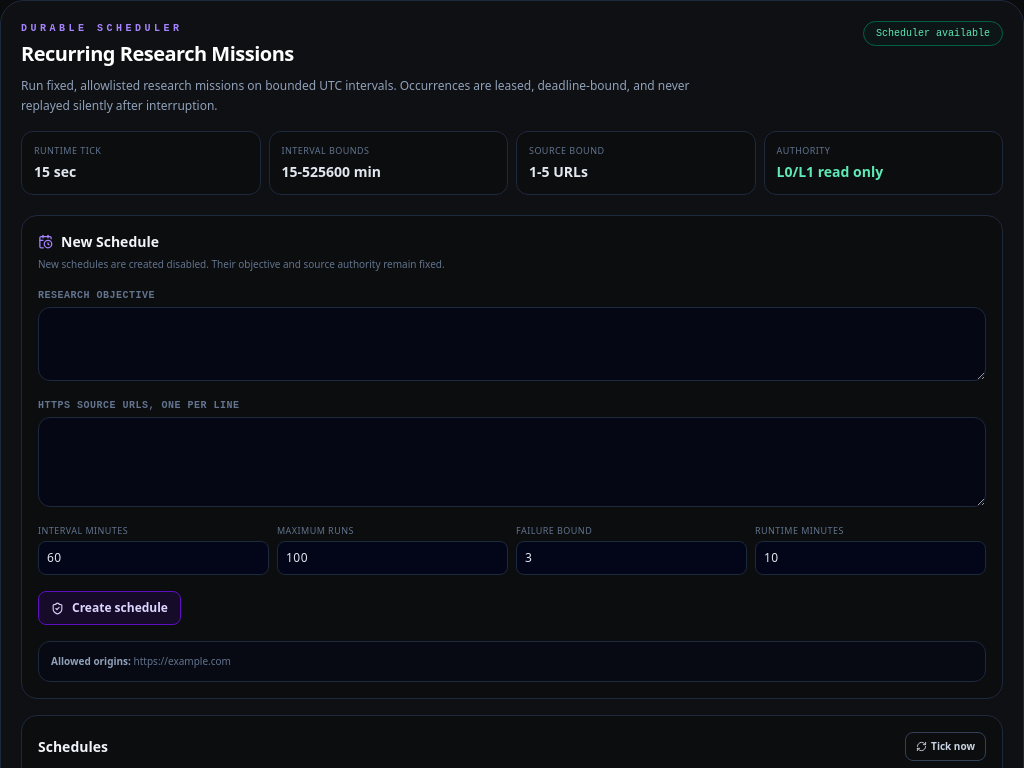
Test case: RecurringResearchPanel › creates a disabled schedule with the exact authenticated contract and does not tick it
The image size is (1024, 768).
Type "Track evidence changes" into the text box named "Scheduled research objective" at (512, 344), box [38, 307, 986, 381]
Type "https://example.com/source" into the text box named "Scheduled HTTPS source URLs, one per line" at (512, 462), box [38, 417, 986, 507]
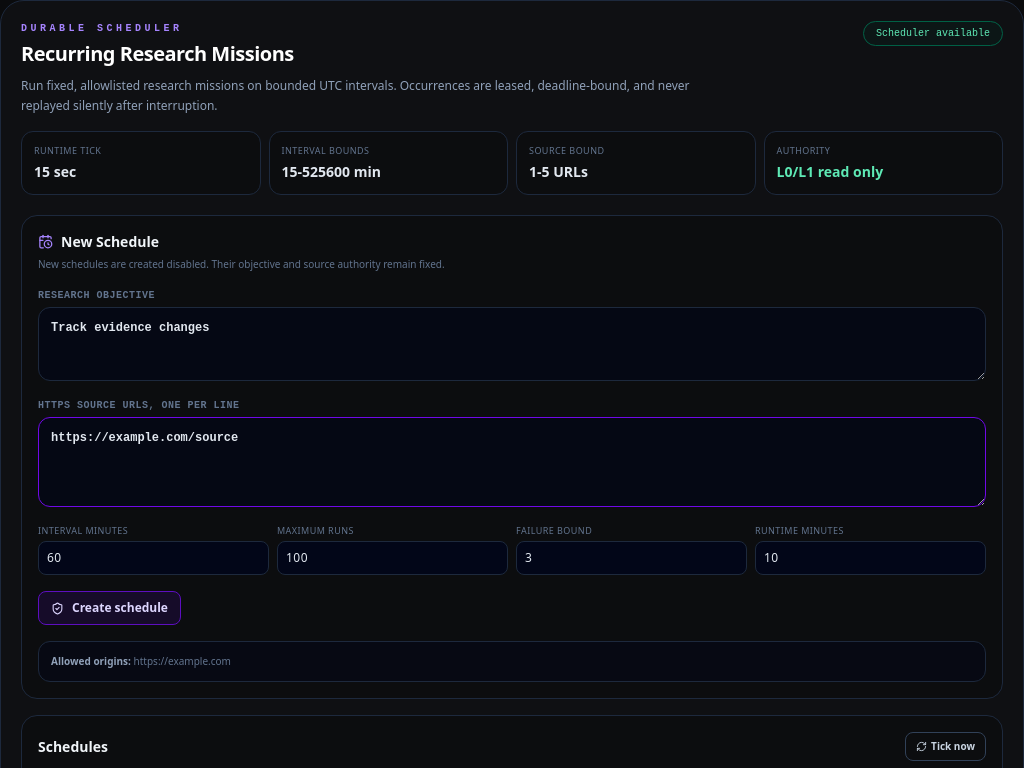
Replace the text in the number field labelled "Interval minutes" with "30" at (154, 558), box [38, 541, 269, 575]
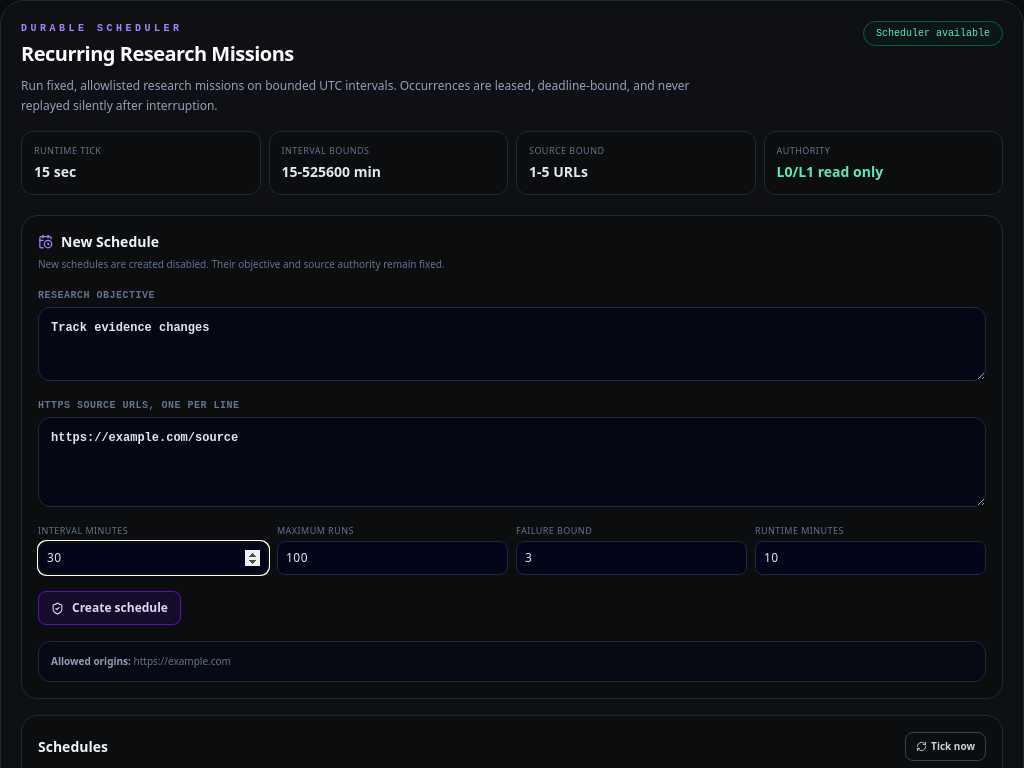
Replace the text in the number field labelled "Maximum runs" with "12" at (392, 558), box [277, 541, 508, 575]
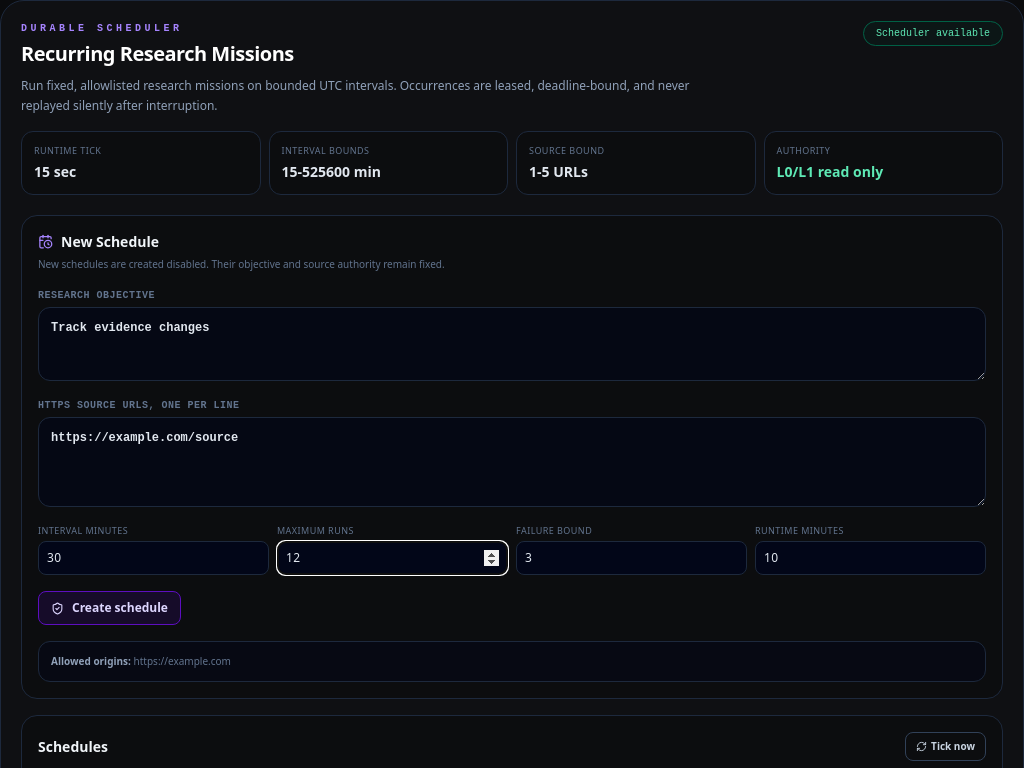
Replace the text in the number field named "Maximum consecutive failures" with "2" at (632, 558), box [516, 541, 747, 575]
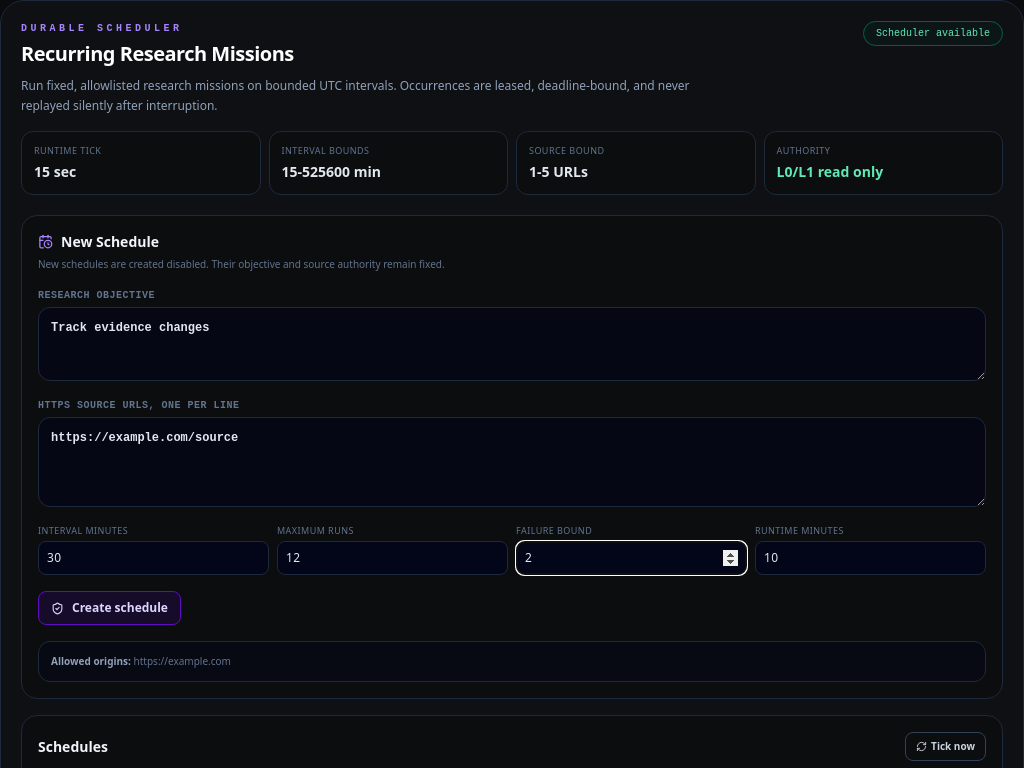
Replace the text in the number field named "Maximum runtime minutes" with "5" at (870, 558), box [755, 541, 986, 575]
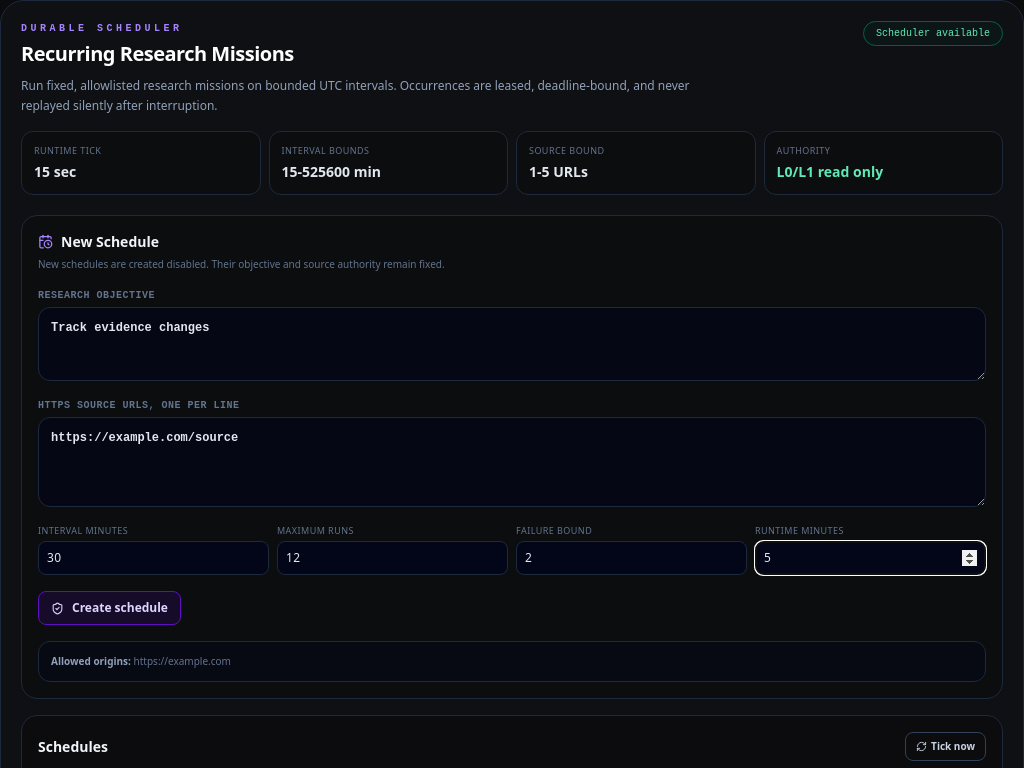
Click the button "Create schedule" at (110, 608), box [38, 591, 181, 625]
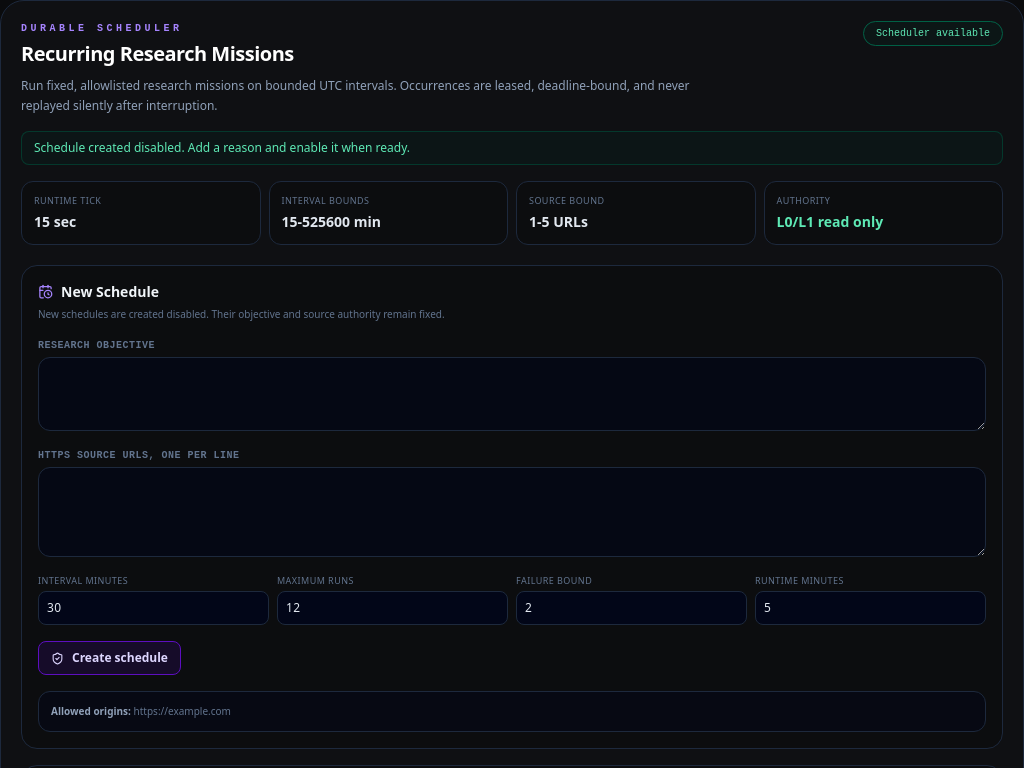
Now the message shows "Schedule created disabled", box [34, 139, 410, 156]
